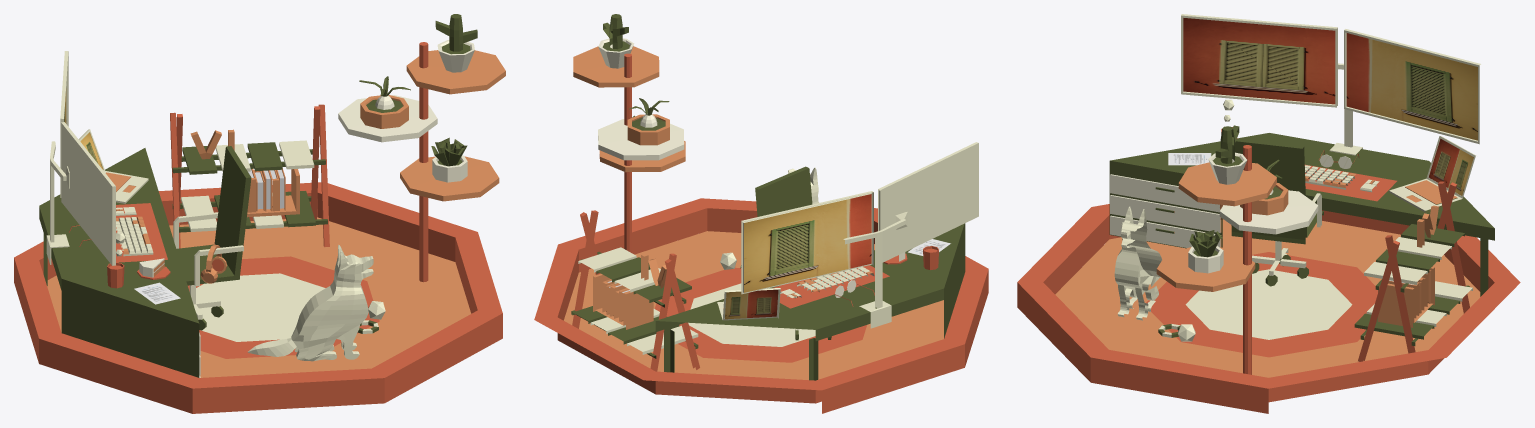
The model's file is workspace-optimize.glb.
3 renders of one model, left to right at view 1: azimuth 30°, elevation 25°; view 2: azimuth 150°, elevation 25°; view 3: azimuth 270°, elevation 25°, orthographic. The views are drawn at different scales.
Parts seen in each view (by area): view 1: base, computer, dog, books, headphones, name, resume; view 2: base, computer, books, name; view 3: base, computer, dog, books, name, resume.
Part boxes in pixels (<box>): base: <box>14,14,505,413</box>; computer: <box>46,51,115,265</box>; dog: <box>248,245,373,361</box>; books: <box>247,168,299,217</box>; headphones: <box>200,244,227,283</box>; name: <box>190,129,234,159</box>; resume: <box>134,282,180,304</box>; base: <box>534,14,988,413</box>; computer: <box>741,142,978,328</box>; books: <box>593,273,653,329</box>; name: <box>641,253,666,288</box>; base: <box>1017,99,1520,413</box>; computer: <box>1181,14,1480,155</box>; dog: <box>1114,206,1161,320</box>; books: <box>1378,266,1434,327</box>; name: <box>1417,205,1438,247</box>; resume: <box>1168,153,1211,165</box>.
Size of the model in its own units: 2 by 1.16 by 2.
Materials: 8 (2 with a texture image).
